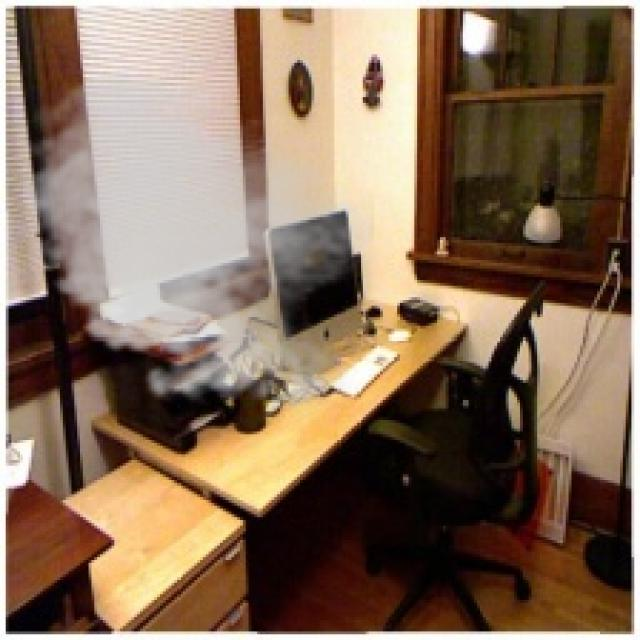smoke: (6, 66, 374, 423)
